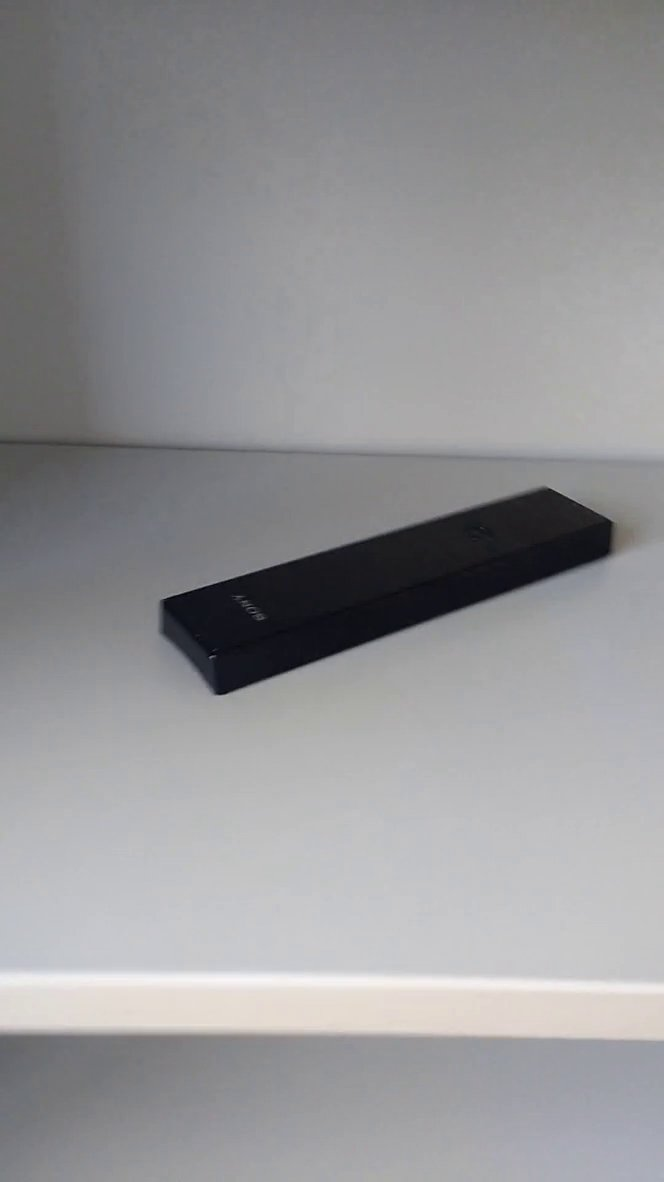remote: (148, 476, 627, 719)
